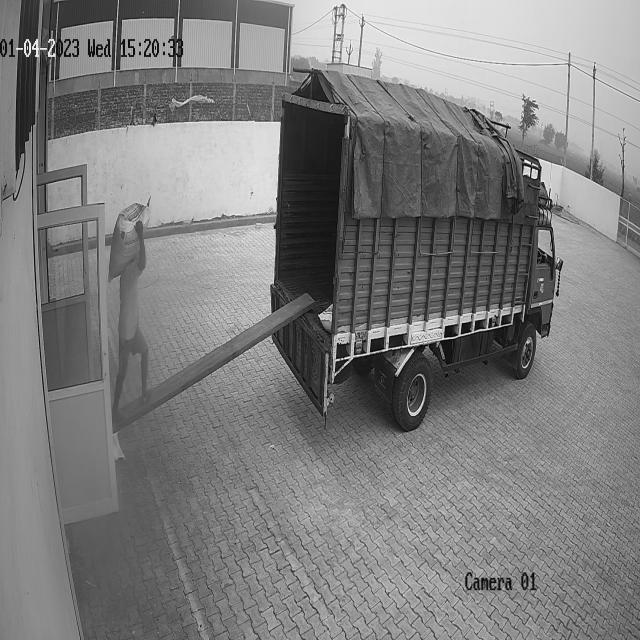sack: (109, 197, 150, 286)
